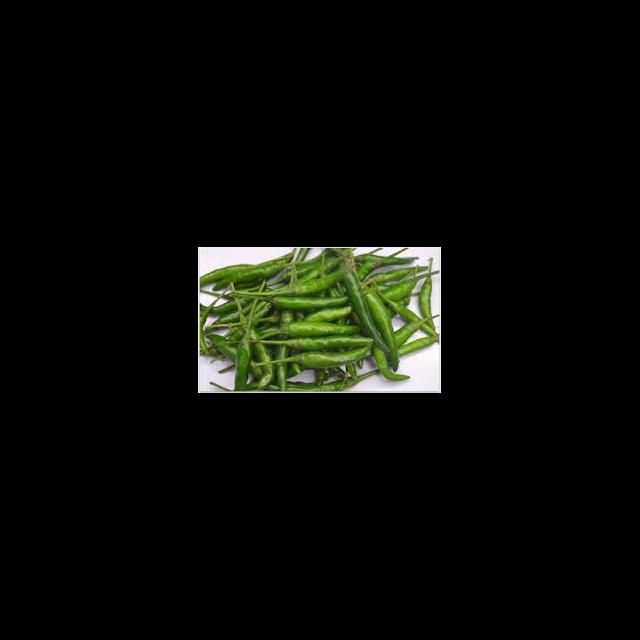chili_pepper: (344, 267, 392, 352), (366, 287, 399, 371), (302, 339, 375, 368), (288, 323, 361, 337), (272, 297, 350, 309)
